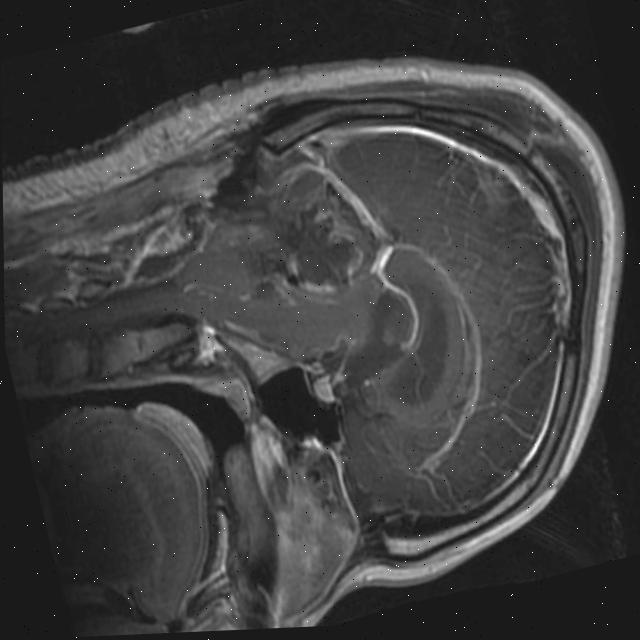Glioma: (231, 150, 375, 312)
Pituitary: (309, 371, 336, 410)
